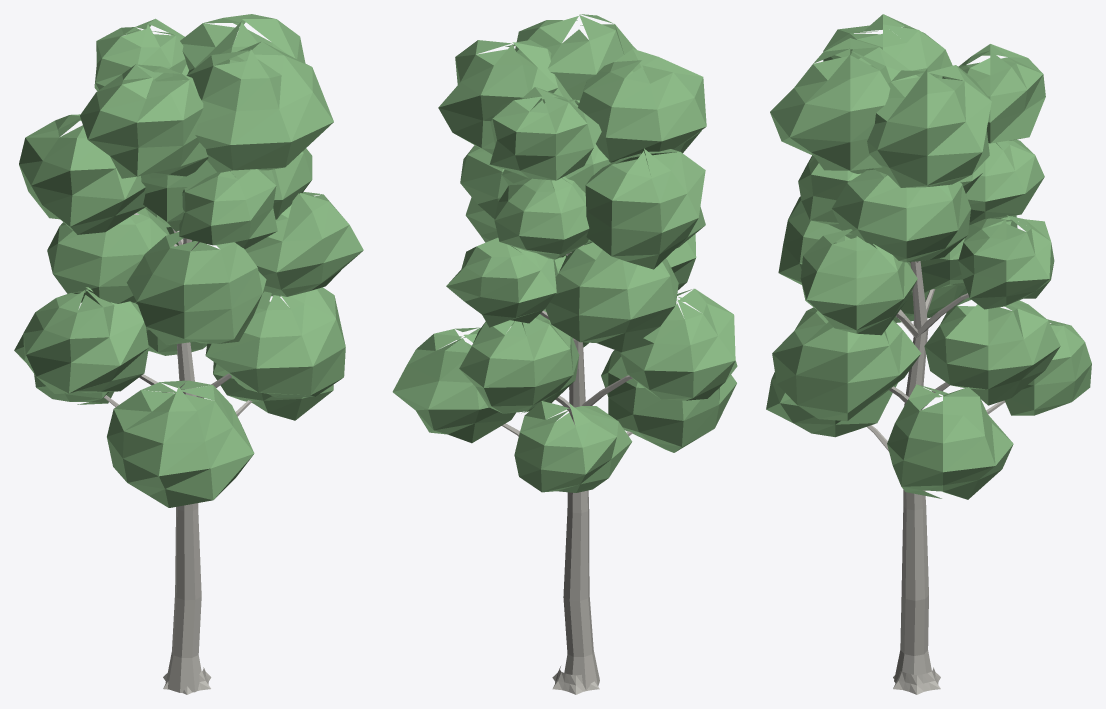
File: temperate-forest-ecology-beech-mature-1df9a3cf__3785.glb
3 views of the same model, side by side, from view 1: azimuth 30°, elevation 25°; view 2: azimuth 150°, elevation 25°; view 3: azimuth 270°, elevation 25° (orthographic). The views are drawn at different scales.
Visible parts, largest first — view 1: beech-mature; view 2: beech-mature; view 3: beech-mature.
Part boxes in pixels (x1,y1,x2,y2): beech-mature: [14, 14, 363, 694]; beech-mature: [392, 14, 737, 694]; beech-mature: [766, 14, 1091, 694].
Bounding box in the file's own units: 14.31 × 27.59 × 12.55.
